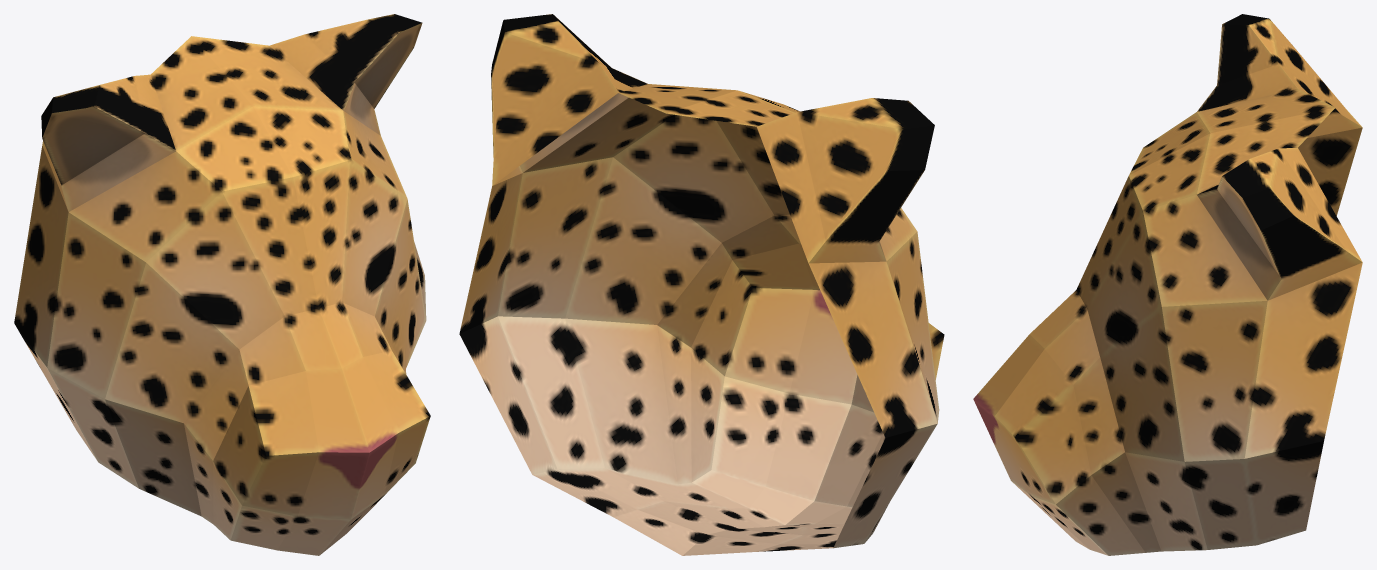
File: jaguar.glb
3 renders of one model, left to right at view 1: azimuth 30°, elevation 25°; view 2: azimuth 150°, elevation 25°; view 3: azimuth 270°, elevation 25°, orthographic. The views are drawn at different scales.
Visible parts, largest first — view 1: Object_2; view 2: Object_2; view 3: Object_2.
Part boxes in pixels (left/top/right/bottom): Object_2: left=14, top=14, right=430, bottom=555; Object_2: left=459, top=14, right=944, bottom=555; Object_2: left=973, top=14, right=1362, bottom=555.
Bounding box in the file's own units: 1.71 × 1.92 × 1.5.
Materials: 1 (1 with a texture image).
